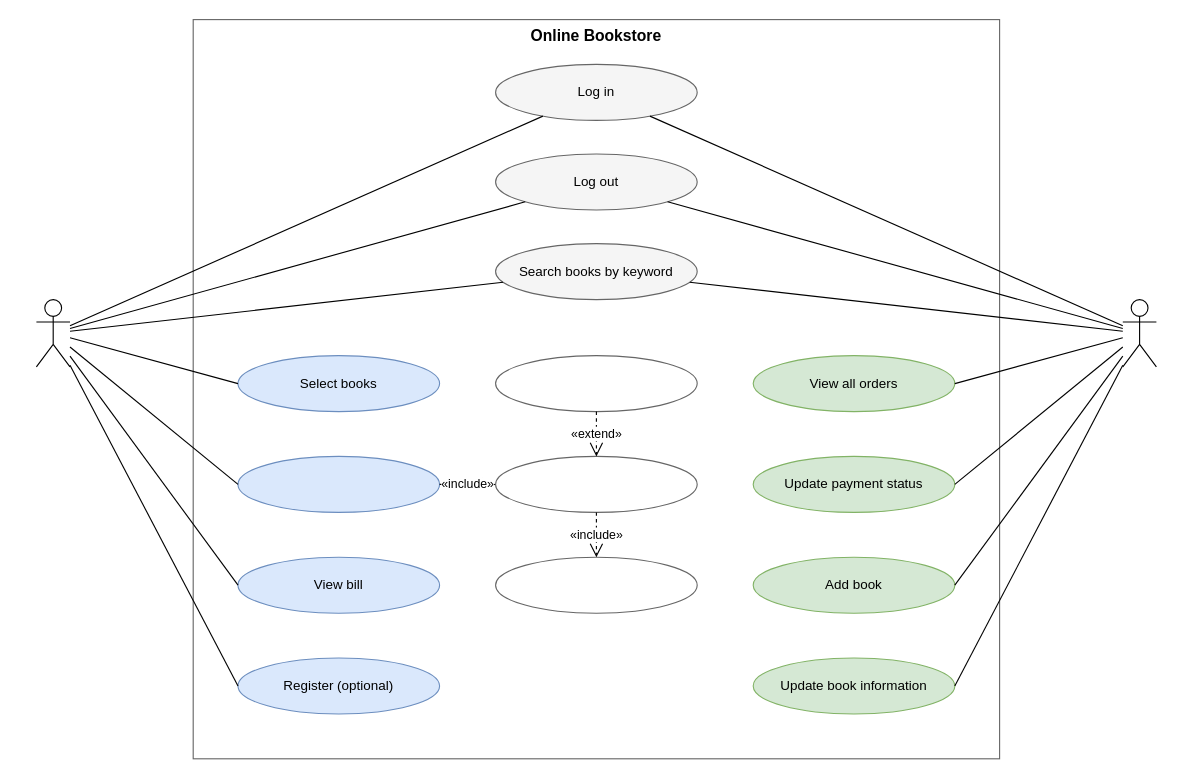
Image size: 1188x778. Some labels were removed from this diagram. The shapes that lost their labels are listed below. From the top down, each one's centre as x and y in pixels, then its label:
(x=52, y=332): Customer
(x=1139, y=332): Manager
(x=595, y=383): Email bill (optional)
(x=338, y=483): Place order (buy and/or rent)
(x=595, y=483): Generate bill
(x=595, y=584): Save bill as HTML file
